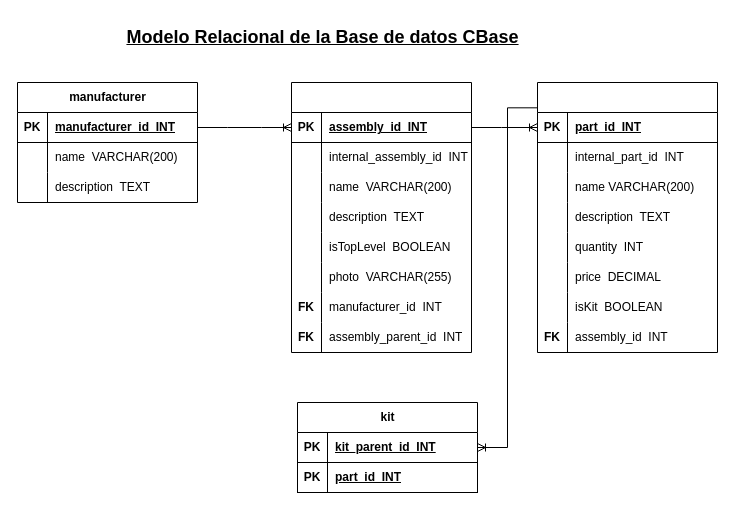
This 735x510 diagram has some shape labels left out. Each missing label, with the box of its shape:
assemblies: (290, 82, 472, 352)
parts: (536, 82, 718, 352)
